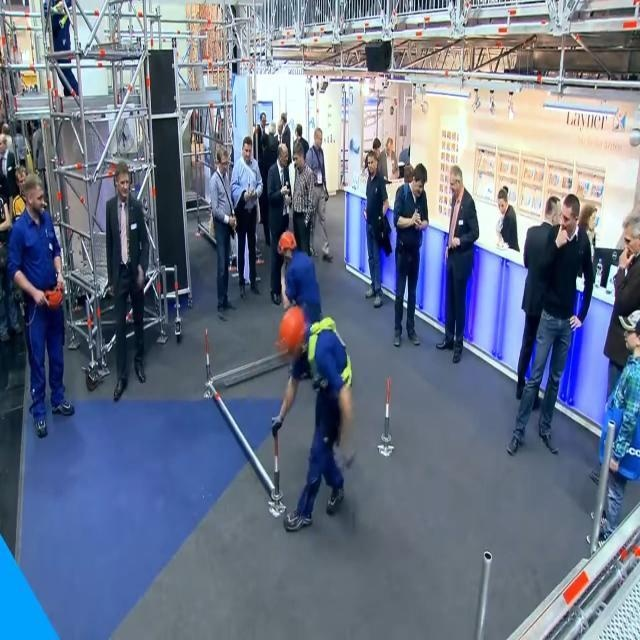Arnes_seguridad: (307, 312, 354, 410)
